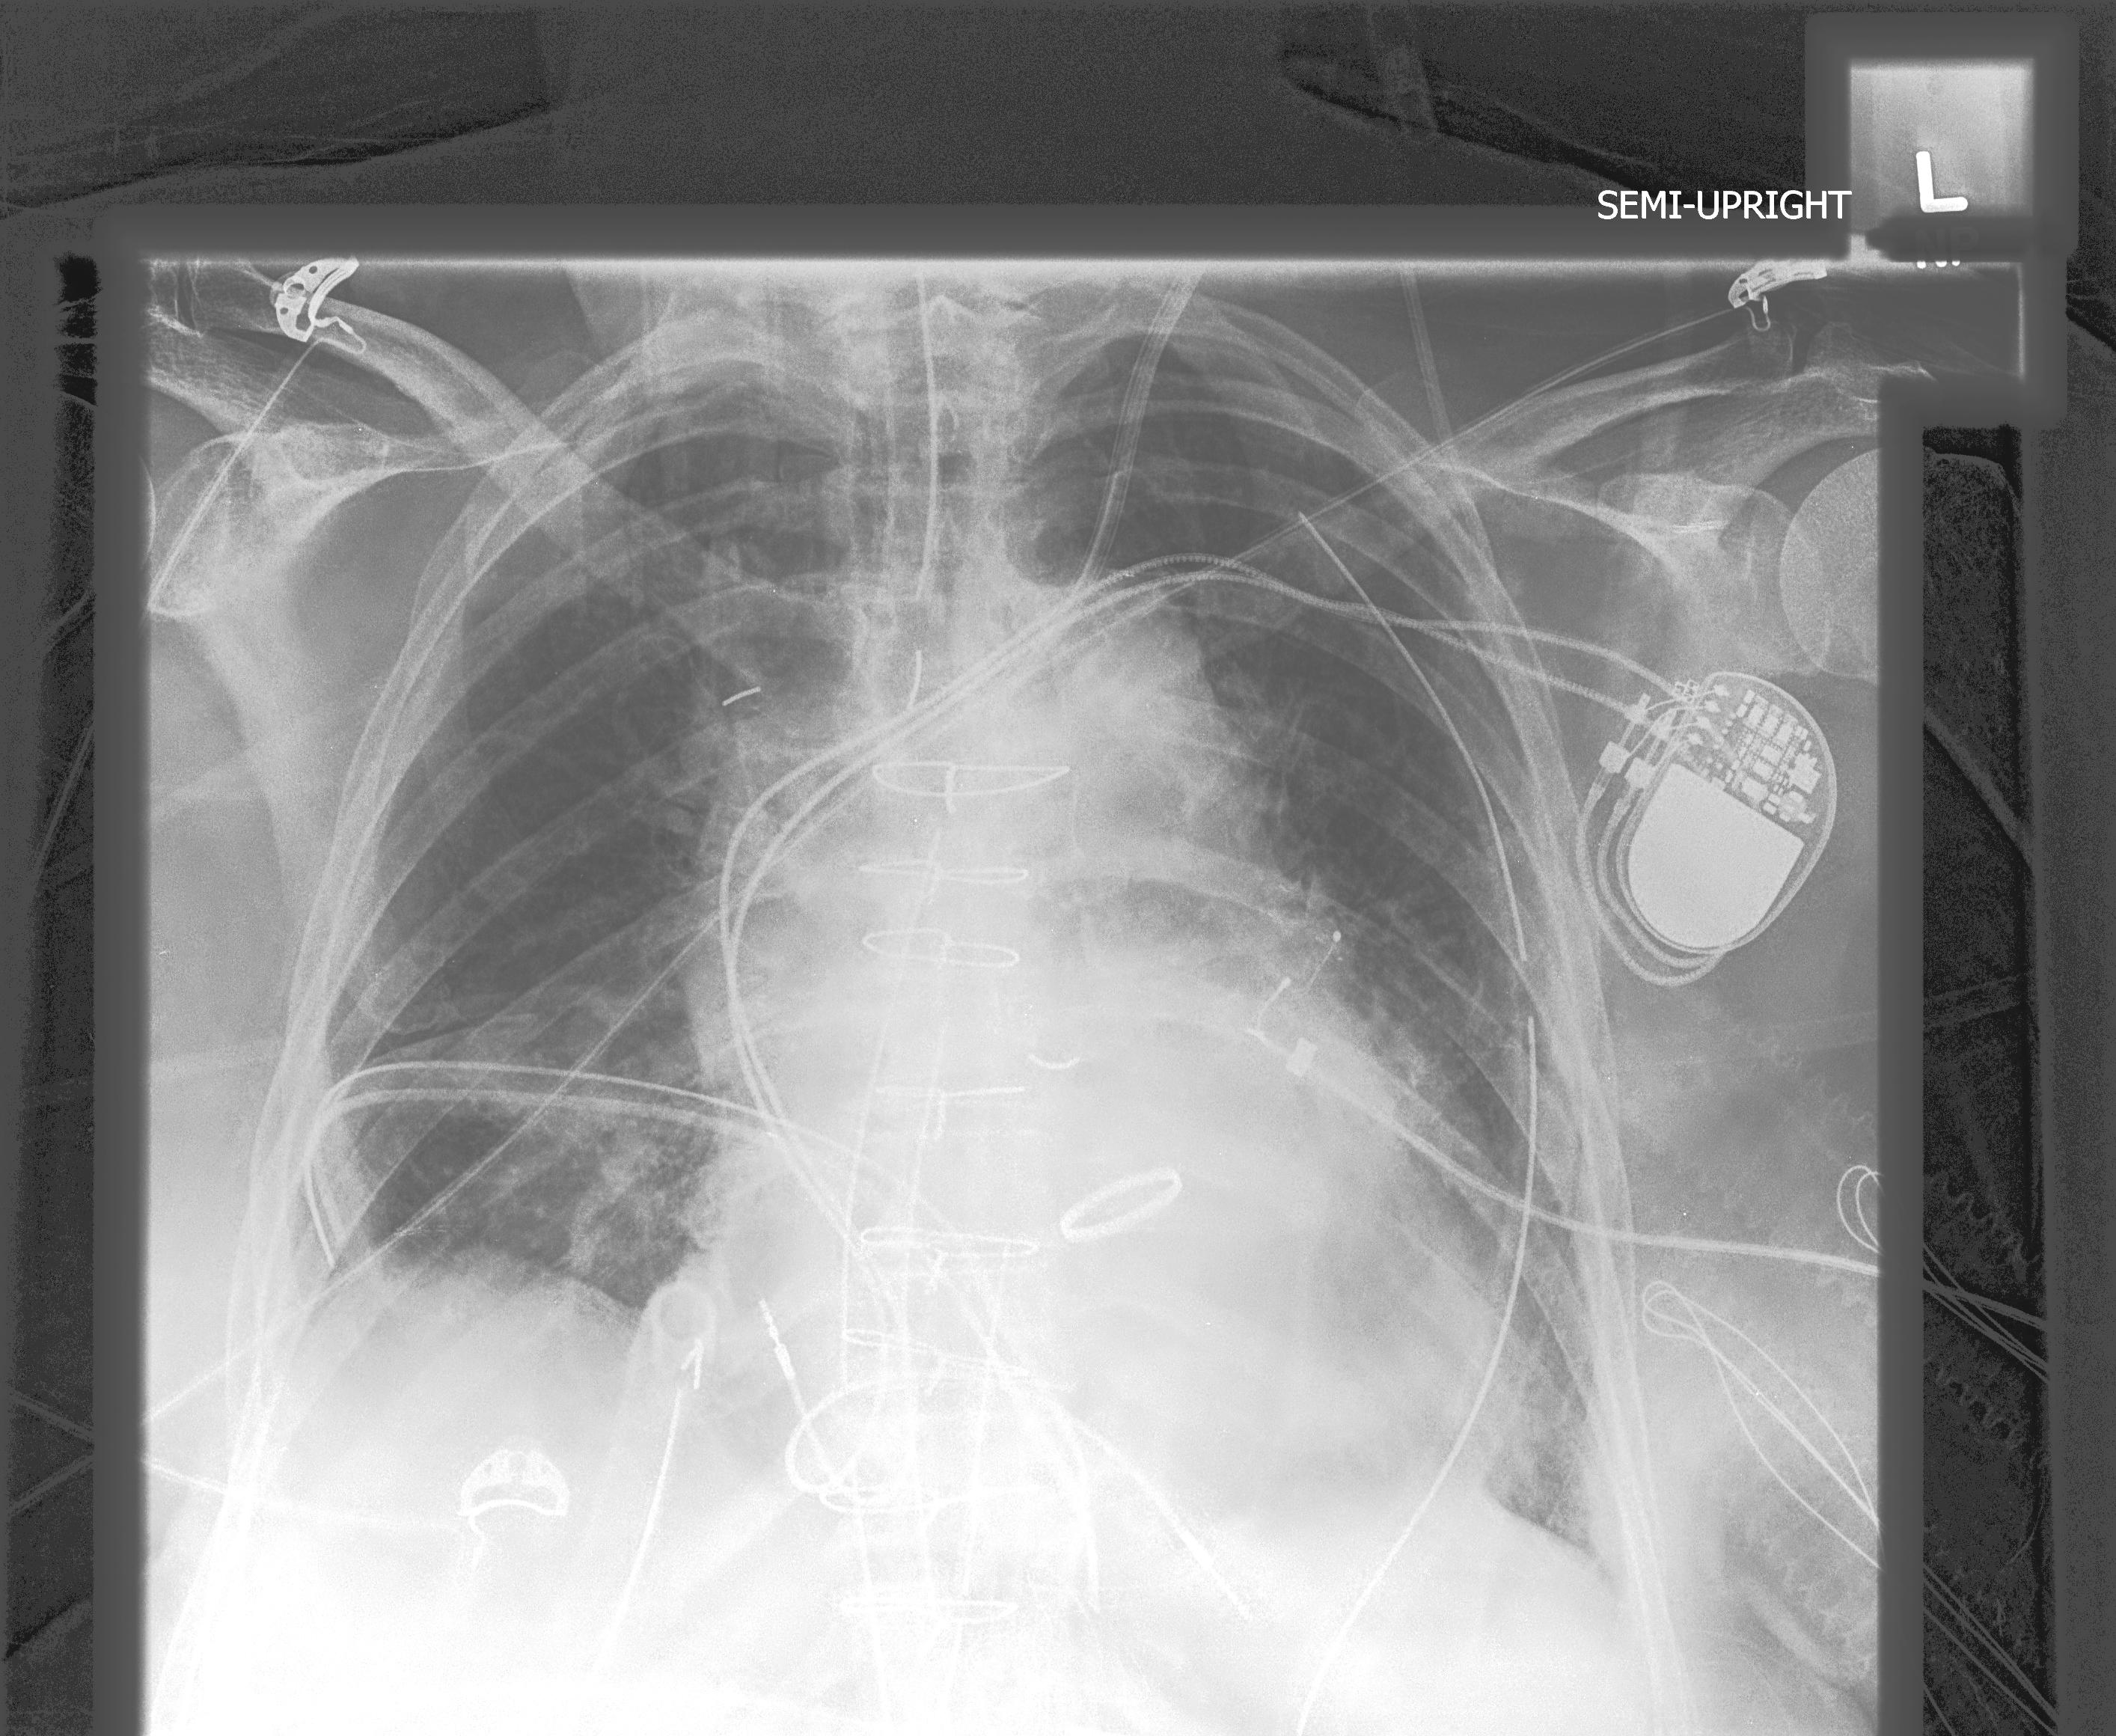Pleural Effusion: (221, 1241, 540, 1625)
